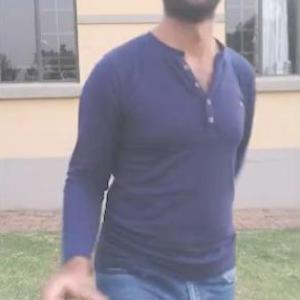follow: (60, 0, 260, 299)
